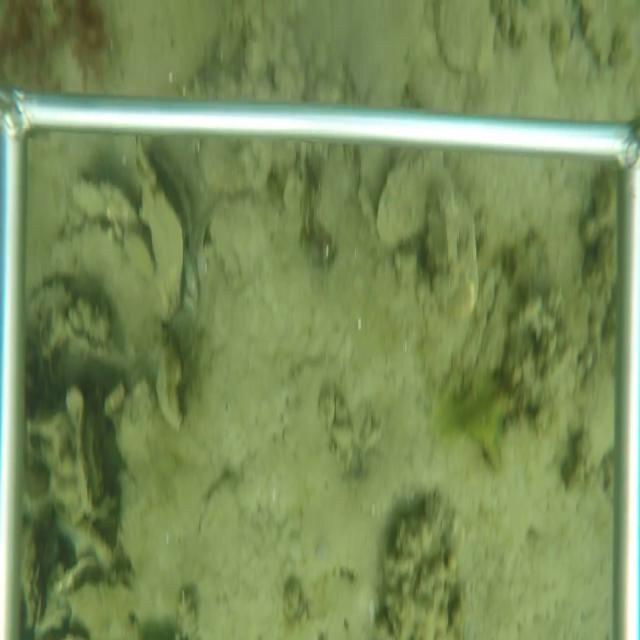Oyster-Closed: (64, 387, 92, 517)
Oyster-Indeterminate: (136, 138, 188, 331), (375, 149, 447, 254), (431, 1, 495, 78)
